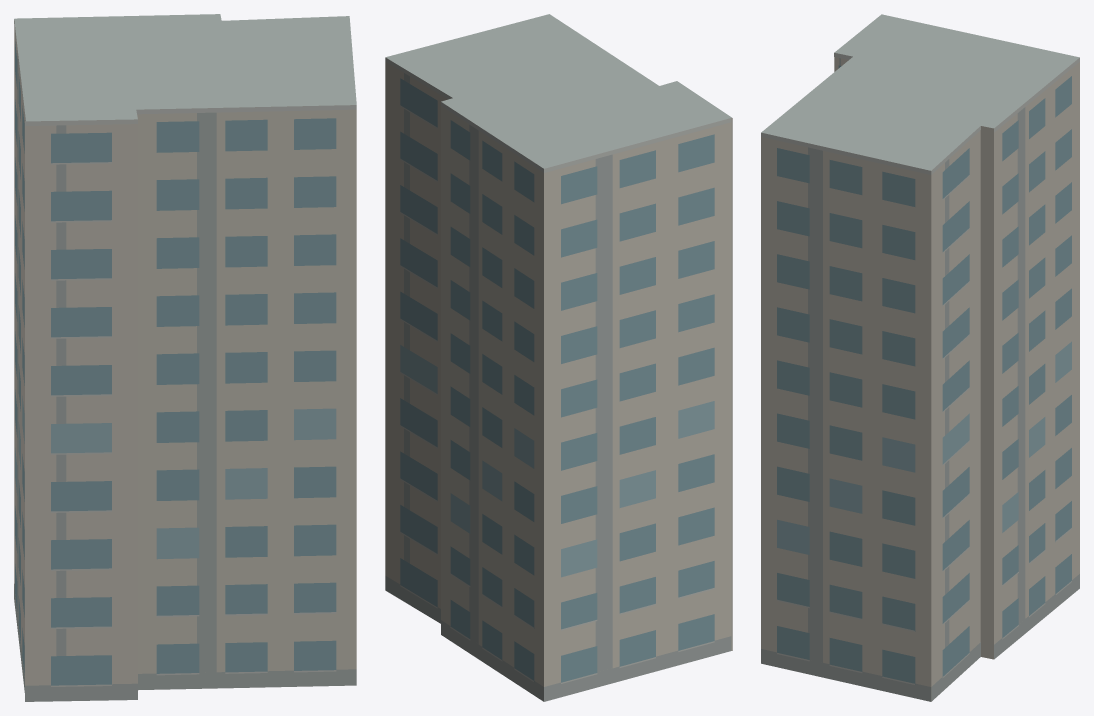
File: survey-upis-32741478.glb
3 renders of one model, left to right at view 1: azimuth 30°, elevation 25°; view 2: azimuth 150°, elevation 25°; view 3: azimuth 270°, elevation 25°, orthographic. The views are drawn at different scales.
Visible parts, largest first — view 1: survey-upis-32741478.tmp; view 2: survey-upis-32741478.tmp; view 3: survey-upis-32741478.tmp.
Boxes of the visible parts, x1,y1,x2,y2 form: survey-upis-32741478.tmp: [14, 14, 356, 701]; survey-upis-32741478.tmp: [385, 14, 732, 701]; survey-upis-32741478.tmp: [761, 14, 1079, 701].
Bounding box in the file's own units: 19.33 × 30.5 × 16.6.
